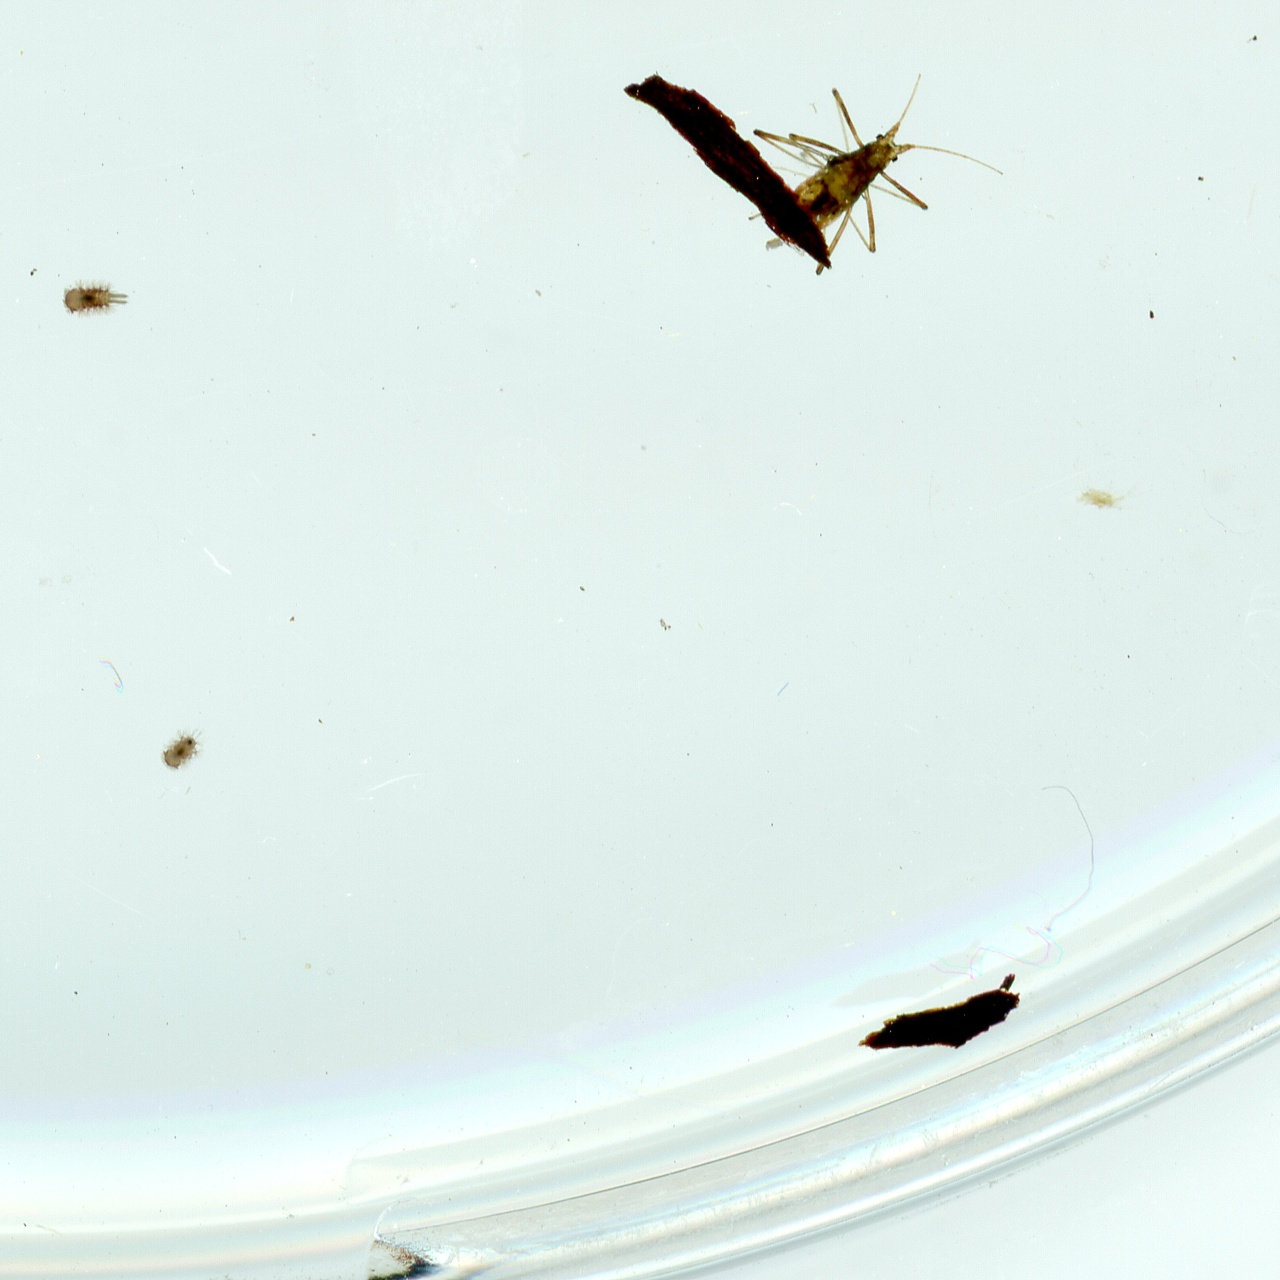arthropod: (693, 19, 1017, 319), (633, 0, 908, 59), (57, 277, 134, 322), (156, 721, 211, 775)
